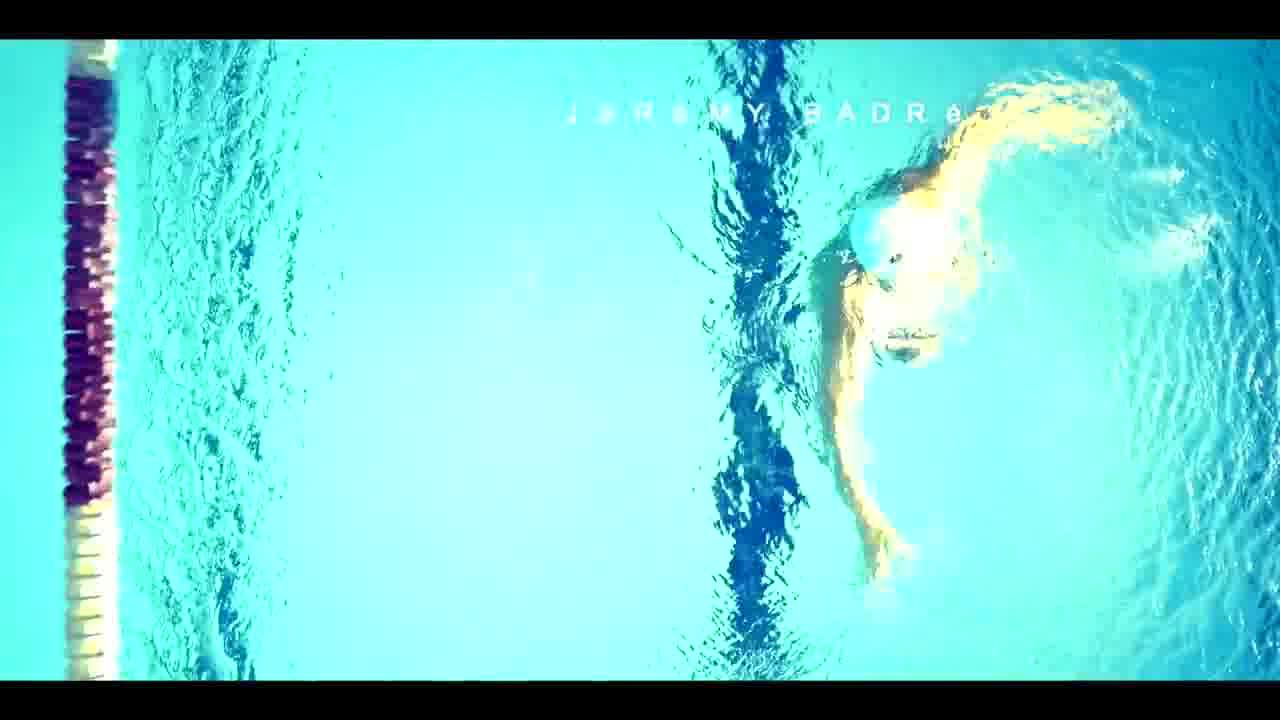human: (827, 77, 1116, 575)
